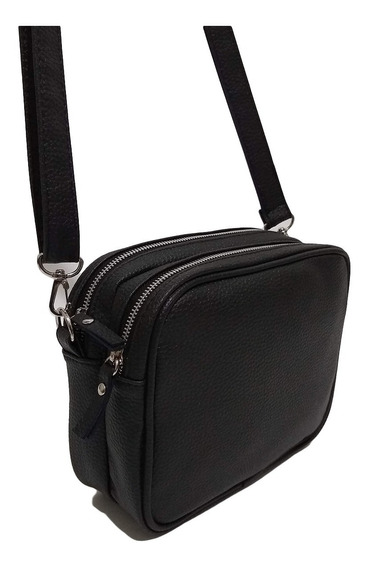cartera: (17, 24, 350, 540)
